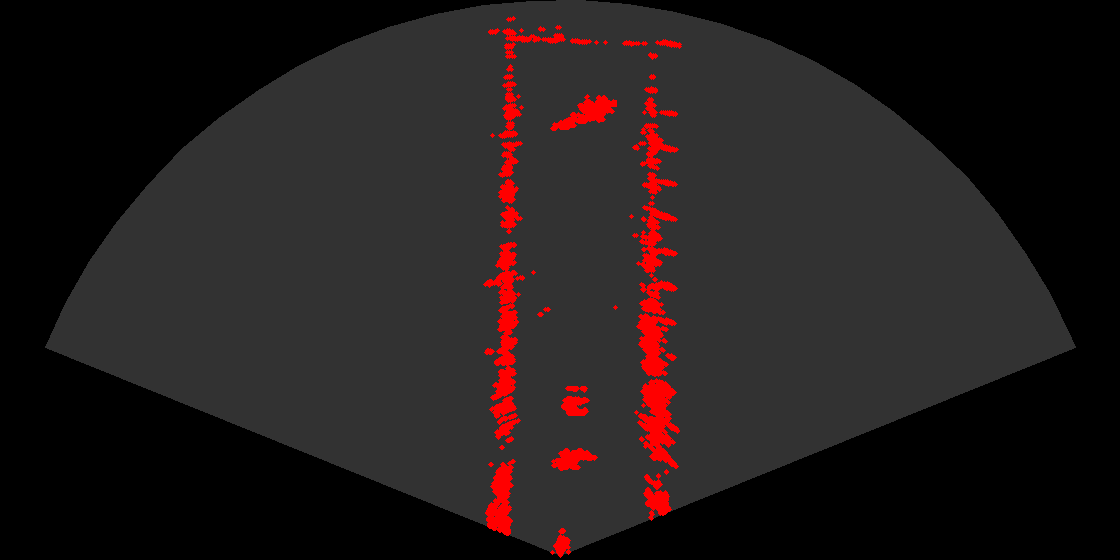AUV: (545, 446, 601, 478)
ball: (541, 378, 601, 419)
frogman: (549, 88, 617, 135)
